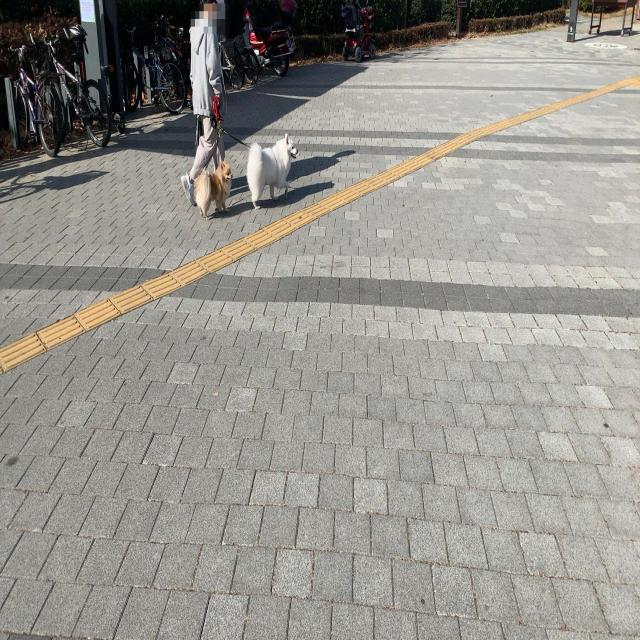Leashed_Dog: (208, 81, 299, 211), (195, 84, 233, 222)
